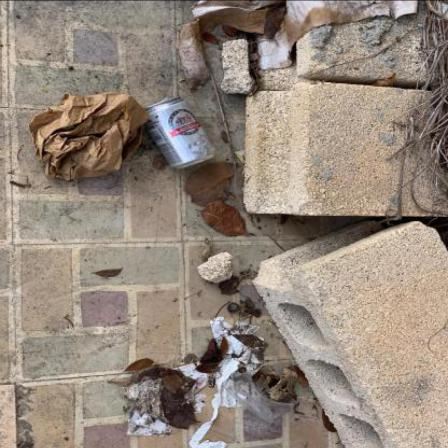Can: (145, 97, 217, 170)
Cup: (225, 371, 296, 424)
Other litter: (29, 92, 151, 182)
Paper: (189, 317, 265, 448), (124, 362, 208, 437)
Pop tab: (159, 97, 171, 104)
